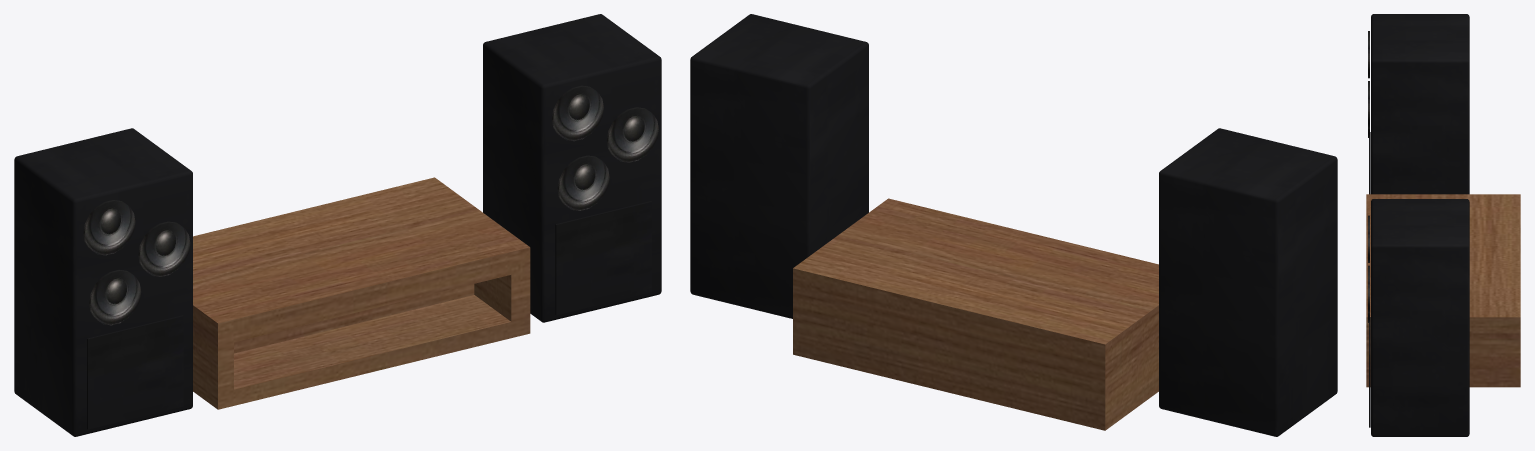
The model's file is soundsystem_tv_table.fbx.
3 views of the same model, side by side, from view 1: azimuth 30°, elevation 25°; view 2: azimuth 150°, elevation 25°; view 3: azimuth 270°, elevation 25° (orthographic). The views are drawn at different scales.
Visible parts, largest first — view 1: polySurface16; view 2: polySurface16; view 3: polySurface16.
Part boxes in pixels (x1=…): polySurface16: x1=14, y1=14, x2=661, y2=436; polySurface16: x1=690, y1=14, x2=1337, y2=436; polySurface16: x1=1366, y1=14, x2=1520, y2=436.
Bounding box in the file's own units: 550 × 216 × 154.
2 materials, 2 textured.
